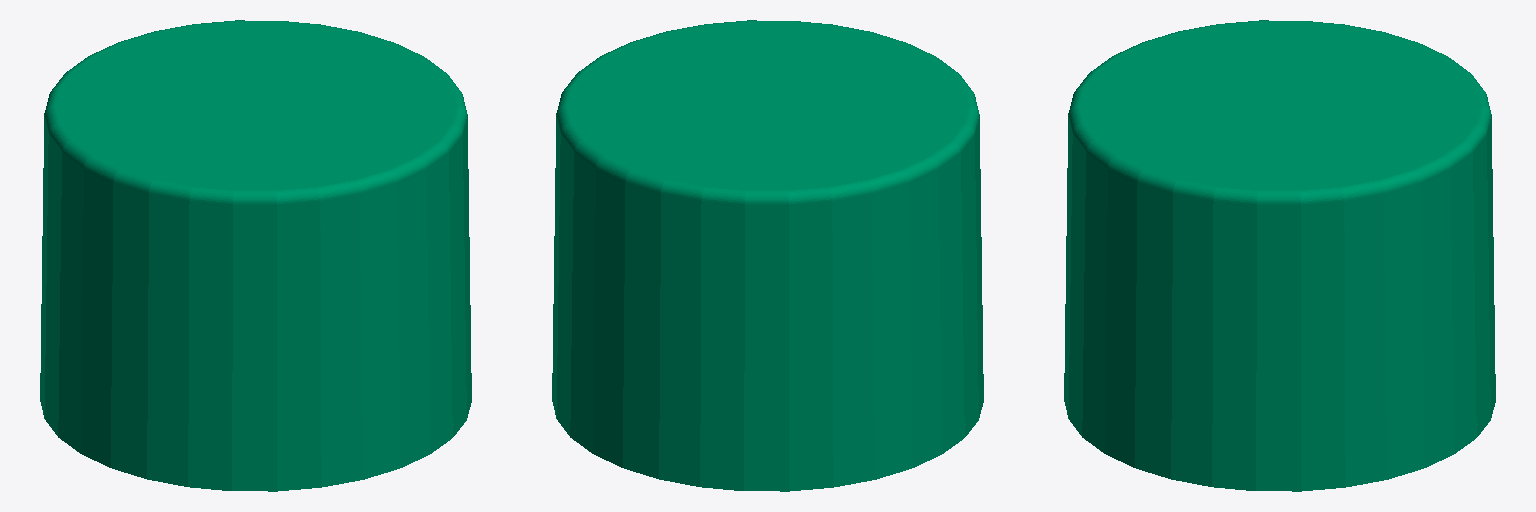
URDF robot description (partnet_e27e2864f9b54ca5bf9a3f8c45e44354):
<?xml version="1.0" ?>
<robot name="partnet_e27e2864f9b54ca5bf9a3f8c45e44354">
	<link name="base"/>
	<link name="link_0">
		<visual name="handle-1">
			<origin xyz="-0.006075000000000053 -0.1647496026103216 -0.030895207992299122"/>
			<geometry>
				<mesh filename="textured_objs/original-5.obj" scale="0.2 0.2 0.2"/>
			</geometry>
		</visual>
		<collision>
			<origin xyz="-0.006075000000000053 -0.1647496026103216 -0.030895207992299122"/>
			<geometry>
				<mesh filename="textured_objs/original-5.obj" scale="0.2 0.2 0.2"/>
			</geometry>
		</collision>
	</link>
	<joint name="joint_0" type="revolute">
		<origin xyz="0.0048911701146697 0.1647496026103216 0.03293605396319994"/>
		<axis xyz="1 0 0"/>
		<child link="link_0"/>
		<parent link="link_1"/>
		<limit lower="0.0" upper="1.0471975511965976"/>
	</joint>
	<link name="link_1">
		<visual name="head-3">
			<origin xyz="-0.001183829885330353 0 0.002040845970900819"/>
			<geometry>
				<mesh filename="textured_objs/original-3.obj" scale="0.2 0.2 0.2"/>
			</geometry>
		</visual>
		<visual name="head-3">
			<origin xyz="-0.001183829885330353 0 0.002040845970900819"/>
			<geometry>
				<mesh filename="textured_objs/original-6.obj" scale="0.2 0.2 0.2"/>
			</geometry>
		</visual>
		<visual name="head-3">
			<origin xyz="-0.001183829885330353 0 0.002040845970900819"/>
			<geometry>
				<mesh filename="textured_objs/original-4.obj" scale="0.2 0.2 0.2"/>
			</geometry>
		</visual>
		<collision>
			<origin xyz="-0.001183829885330353 0 0.002040845970900819"/>
			<geometry>
				<mesh filename="textured_objs/original-3.obj" scale="0.2 0.2 0.2"/>
			</geometry>
		</collision>
		<collision>
			<origin xyz="-0.001183829885330353 0 0.002040845970900819"/>
			<geometry>
				<mesh filename="textured_objs/original-6.obj" scale="0.2 0.2 0.2"/>
			</geometry>
		</collision>
		<collision>
			<origin xyz="-0.001183829885330353 0 0.002040845970900819"/>
			<geometry>
				<mesh filename="textured_objs/original-4.obj" scale="0.2 0.2 0.2"/>
			</geometry>
		</collision>
	</link>
	<joint name="joint_1" type="fixed">
		<origin xyz="0.0 0 0.0"/>
		<!-- <axis xyz="0 0 0"/> -->
		<child link="link_1"/>
		<parent link="link_1_helper"/>
	</joint>
	<link name="link_2">
		<visual name="base_body-4">
			<origin xyz="0 0 0"/>
			<geometry>
				<mesh filename="textured_objs/original-1.obj" scale="0.2 0.2 0.2"/>
			</geometry>
		</visual>
		<collision>
			<origin xyz="0 0 0"/>
			<geometry>
				<mesh filename="textured_objs/original-1.obj" scale="0.2 0.2 0.2"/>
			</geometry>
		</collision>
	</link>
	<joint name="joint_2" type="fixed">
		<origin rpy="1.570796326794897 0 -1.570796326794897" xyz="0 0 0"/>
		<child link="link_2"/>
		<parent link="base"/>
	</joint>
	<link name="link_1_helper"/>
	<joint name="joint_3" type="fixed">
		<origin xyz="0.001183829885330353 0 -0.002040845970900819"/>
		<!-- <axis xyz="0 0 0"/> -->
		<child link="link_1_helper"/>
		<parent link="link_2"/>
		<!-- <limit lower="0" upper="0.020000000000000018"/> -->
	</joint>
</robot>

--- What the picture shows (computed from the rendered views, not written in the file) ---
Views: 3 orthographic renders of the robot side by side, from view 1: azimuth 30°, elevation 25°; view 2: azimuth 150°, elevation 25°; view 3: azimuth 270°, elevation 25°.
Model partnet_e27e2864f9b54ca5bf9a3f8c45e44354 with 5 links and 4 joints (1 revolute, 3 fixed), rooted at base, posed every joint at zero.
Links seen in each view (by area): view 1: link_1; view 2: link_1; view 3: link_1.
Link boxes in pixels (<box>): link_1: <box>40,20,471,491</box>; link_1: <box>552,20,983,491</box>; link_1: <box>1064,20,1495,491</box>.
Bounding box of the posed robot: 0.0596 × 0.0599 × 0.0451 m (x, y, z).
Meshes: 5 distinct files referenced, 2 mesh visuals loaded (2 OBJ); not drawn: 3 (reference not matched to a file when rendering).